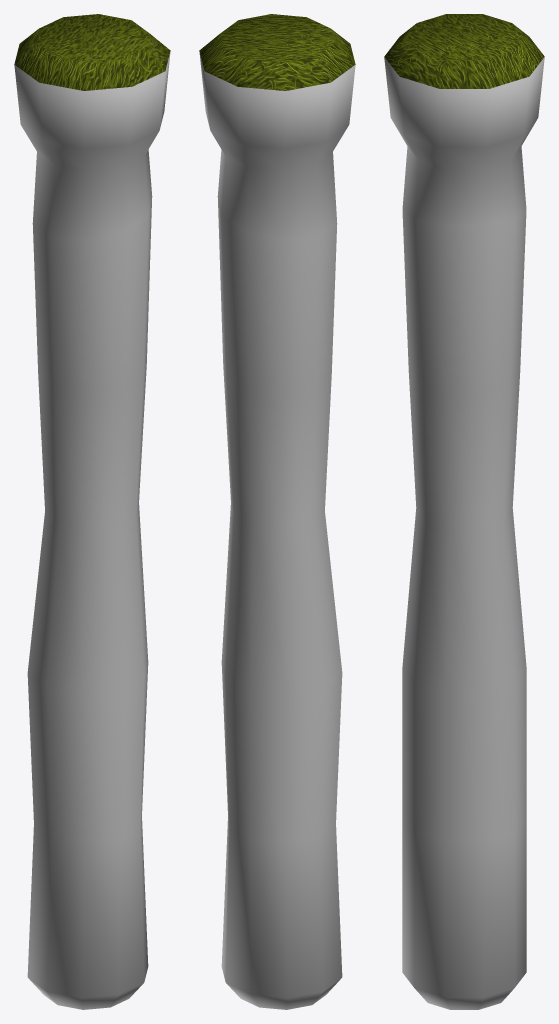
Rendered from platform2_column.fbx.
The picture shows the model from 3 angles, left to right: view 1: azimuth 30°, elevation 25°; view 2: azimuth 150°, elevation 25°; view 3: azimuth 270°, elevation 25°; orthographic projection.
Visible parts, largest first — view 1: Mesh; view 2: Mesh; view 3: Mesh.
Boxes of the visible parts, bbox=[...] form: Mesh: bbox=[14, 14, 170, 1009]; Mesh: bbox=[199, 14, 355, 1009]; Mesh: bbox=[384, 14, 544, 1009].
Bounding box in the file's own units: 291 × 2008 × 306.
